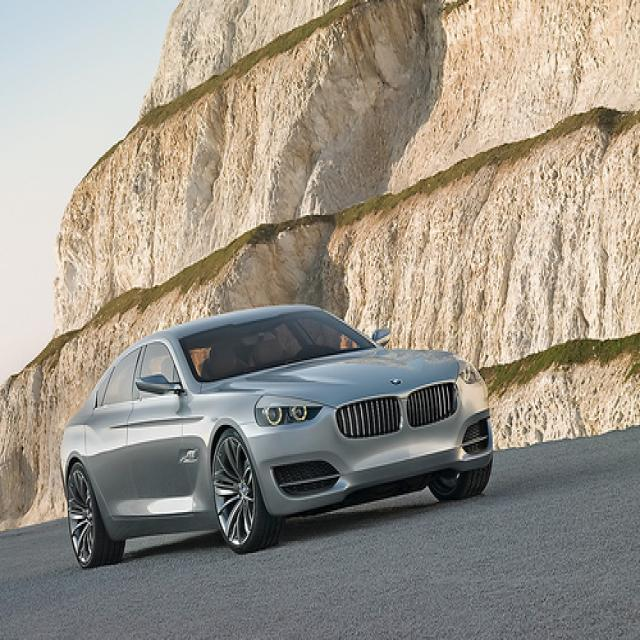car: (59, 303, 495, 571)
